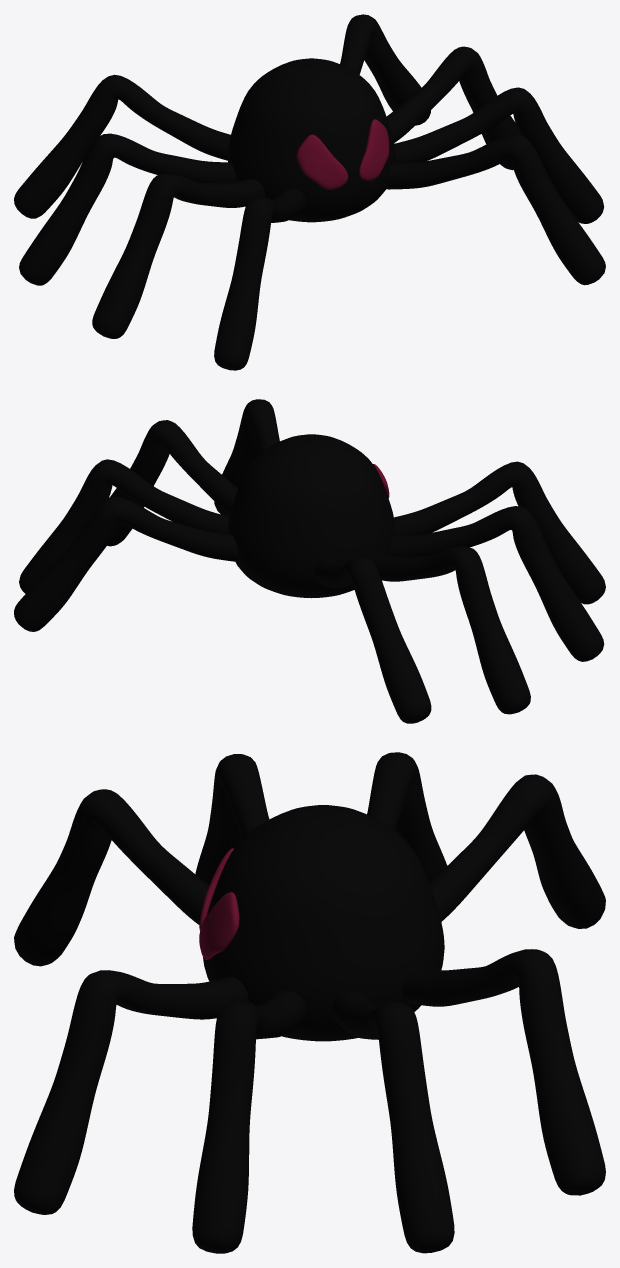
Rendered from spider_boss.fbx.
3 renders of one model, top to bottom at view 1: azimuth 30°, elevation 25°; view 2: azimuth 150°, elevation 25°; view 3: azimuth 270°, elevation 25°, orthographic. The views are drawn at different scales.
Visible parts, largest first — view 1: Circle; view 2: Circle; view 3: Circle.
Part boxes in pixels (x1,y1,x2,y2): Circle: (14, 14, 605, 370); Circle: (14, 399, 605, 723); Circle: (14, 752, 605, 1253).
Size of the model in its own units: 2745 by 975 by 1923.
